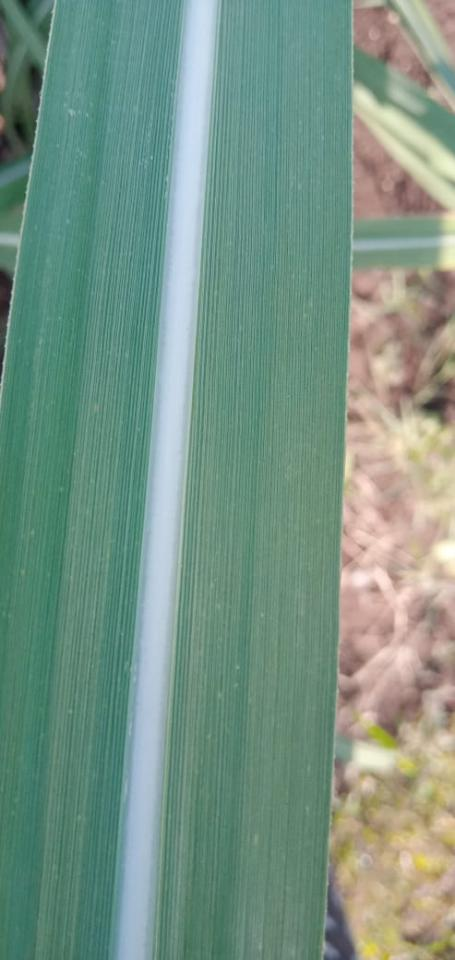Healthy: (1, 0, 351, 959)
